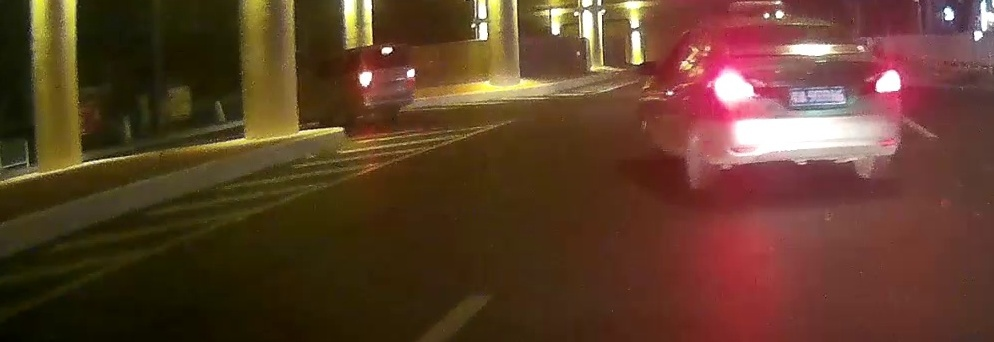L_light: (713, 71, 764, 108), (354, 70, 372, 88)
R_light: (861, 68, 902, 93), (404, 68, 415, 79)
T_light: (776, 24, 804, 31), (380, 46, 393, 55)
night-brake: (354, 42, 417, 123)
night-left: (710, 17, 903, 191)
